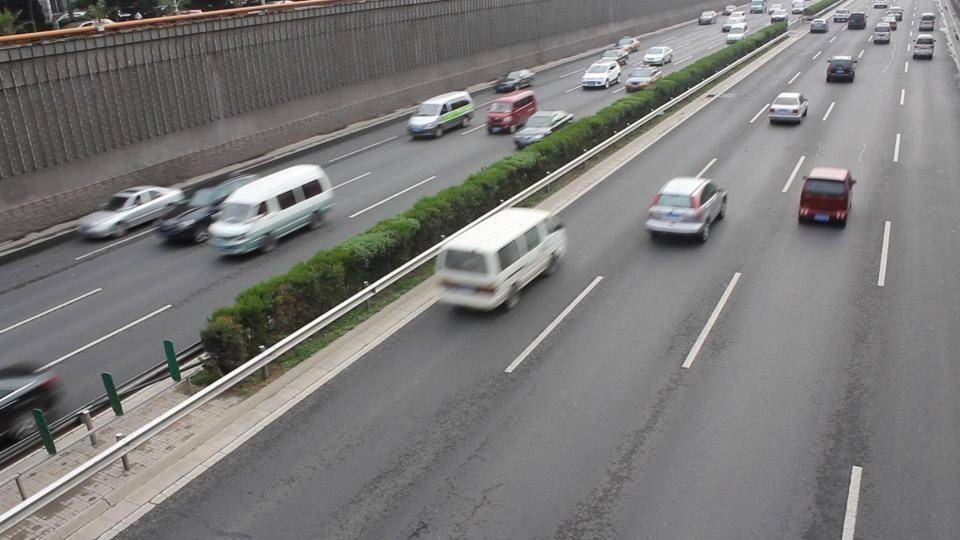car: (435, 206, 569, 312), (205, 162, 336, 258), (156, 176, 260, 246), (78, 184, 187, 240), (644, 175, 728, 243), (0, 363, 67, 441), (796, 165, 857, 227), (490, 97, 567, 143), (407, 90, 476, 140), (511, 109, 576, 150), (484, 90, 538, 135), (768, 91, 810, 125), (581, 59, 622, 90), (494, 69, 536, 94), (623, 67, 661, 93), (825, 55, 856, 84), (642, 46, 674, 66), (911, 36, 936, 61), (918, 12, 936, 34), (871, 26, 891, 45), (847, 13, 866, 30), (810, 19, 828, 32)
